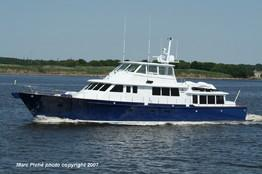yacht: (16, 33, 243, 124)
